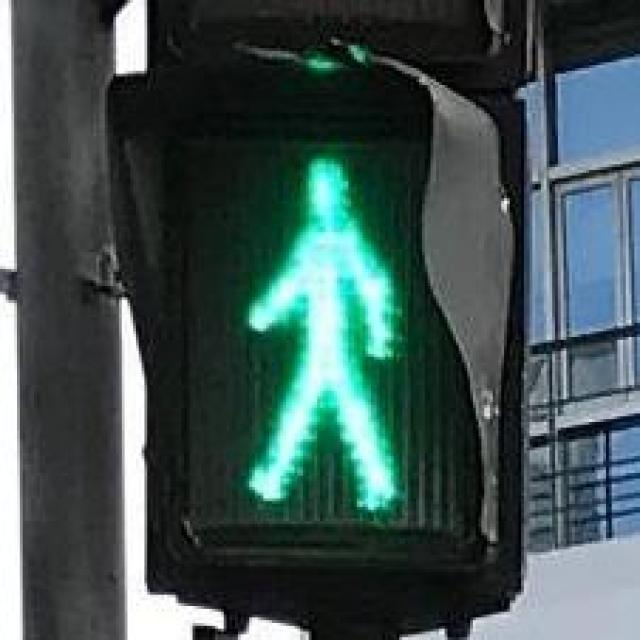green_light: (178, 105, 459, 532)
